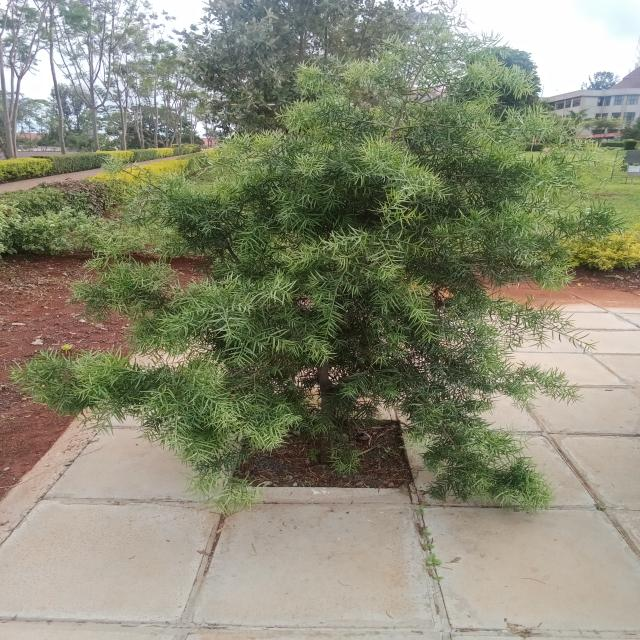Podocarpus falcatus: (11, 13, 630, 516)
